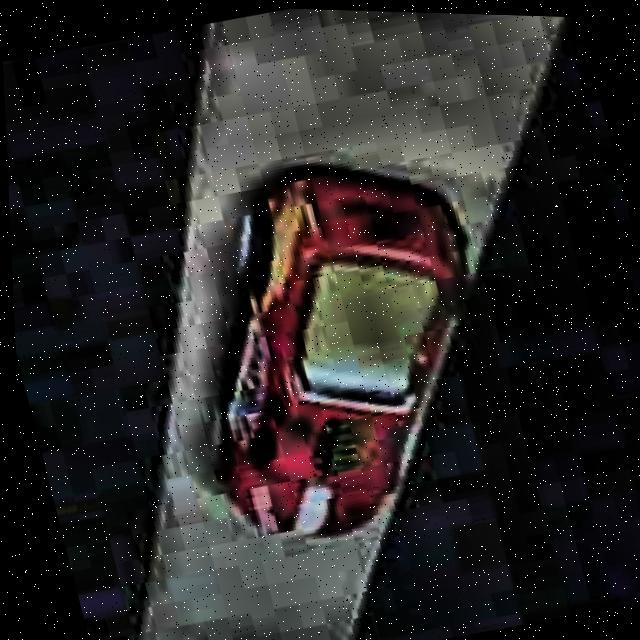car: (134, 123, 542, 570)
